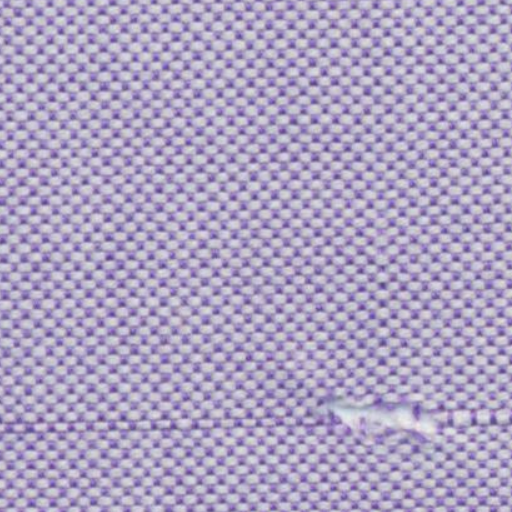PoDong: (312, 374, 452, 467)
